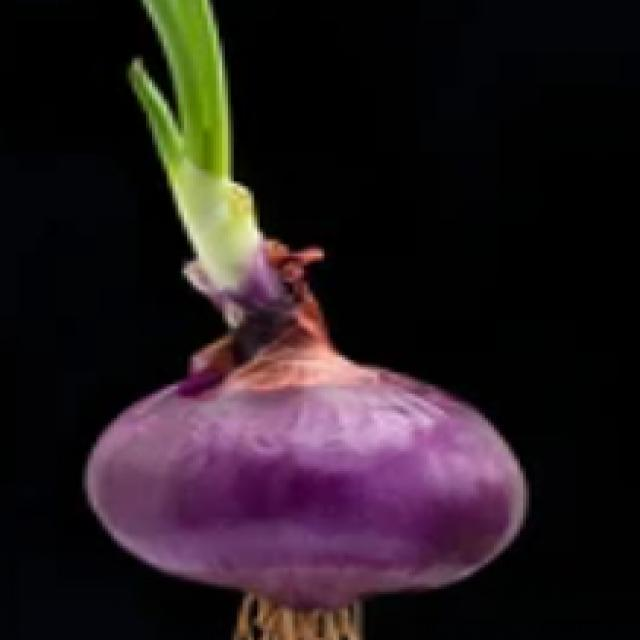sprouting: (126, 36, 324, 314)
